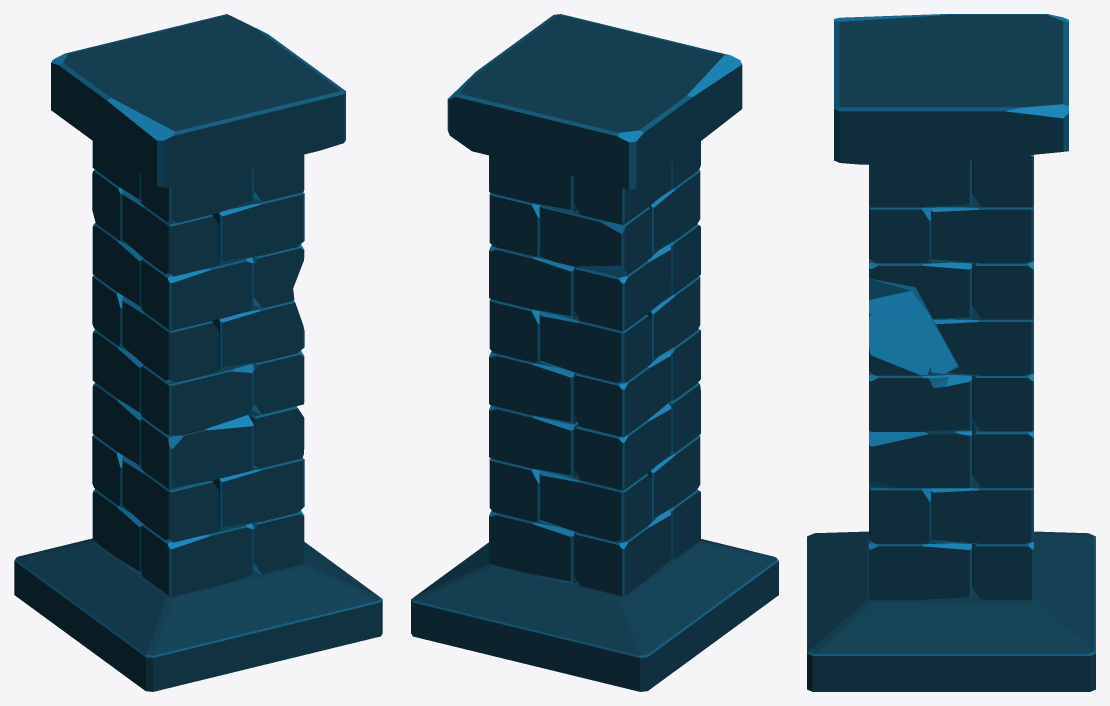
File: pillar_type_02.fbx
3 views of the same model, side by side, from view 1: azimuth 30°, elevation 25°; view 2: azimuth 150°, elevation 25°; view 3: azimuth 270°, elevation 25° (orthographic). The views are drawn at different scales.
Parts seen in each view (by area): view 1: pillar_type_02; view 2: pillar_type_02; view 3: pillar_type_02.
Boxes of the visible parts, left/top/right/bottom form: pillar_type_02: left=14, top=14, right=382, bottom=691; pillar_type_02: left=411, top=14, right=778, bottom=691; pillar_type_02: left=807, top=14, right=1095, bottom=691.
Bounding box in the file's own units: 140 × 305 × 140.
